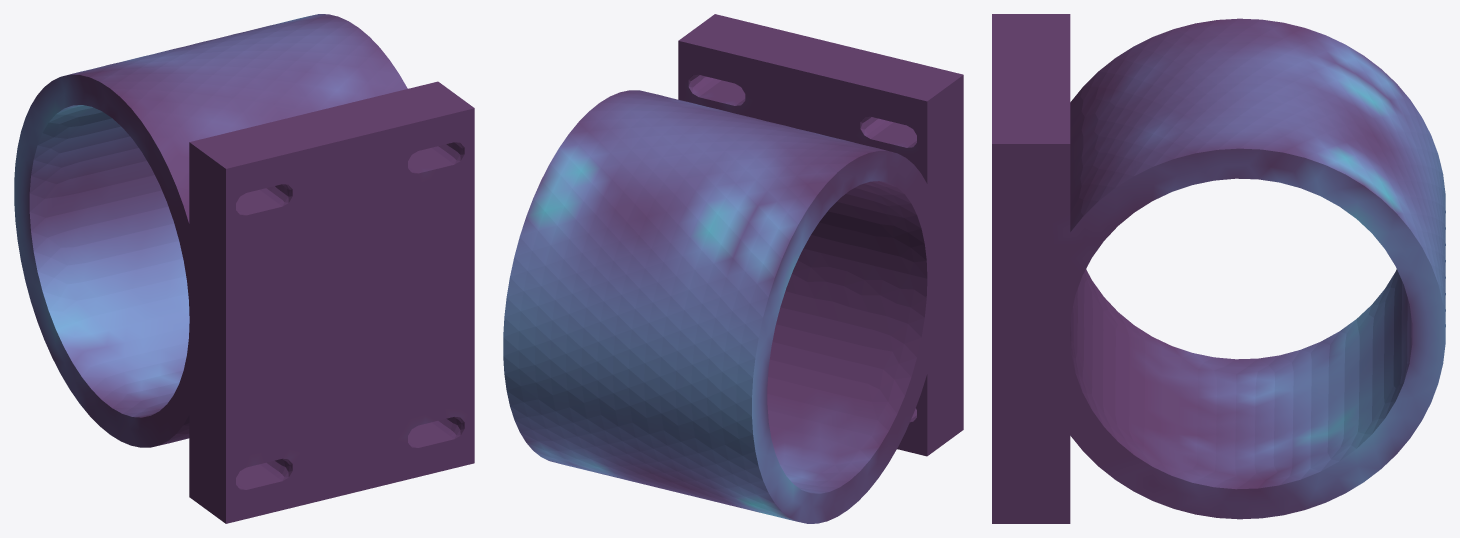
File: CAD_BC-WR.glb
3 renders of one model, left to right at view 1: azimuth 30°, elevation 25°; view 2: azimuth 150°, elevation 25°; view 3: azimuth 270°, elevation 25°, orthographic. The views are drawn at different scales.
Parts seen in each view (by area): view 1: geometry_0; view 2: geometry_0; view 3: geometry_0.
Part boxes in pixels (bbox=[...]): geometry_0: bbox=[14, 14, 474, 523]; geometry_0: bbox=[503, 14, 963, 523]; geometry_0: bbox=[992, 14, 1445, 523].
Size of the model in its own units: 0.11 by 0.15 by 0.1623.
